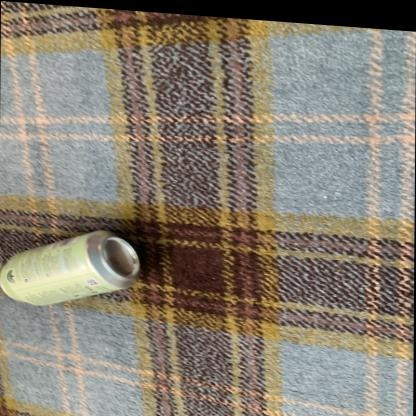trash: (0, 231, 139, 304)
